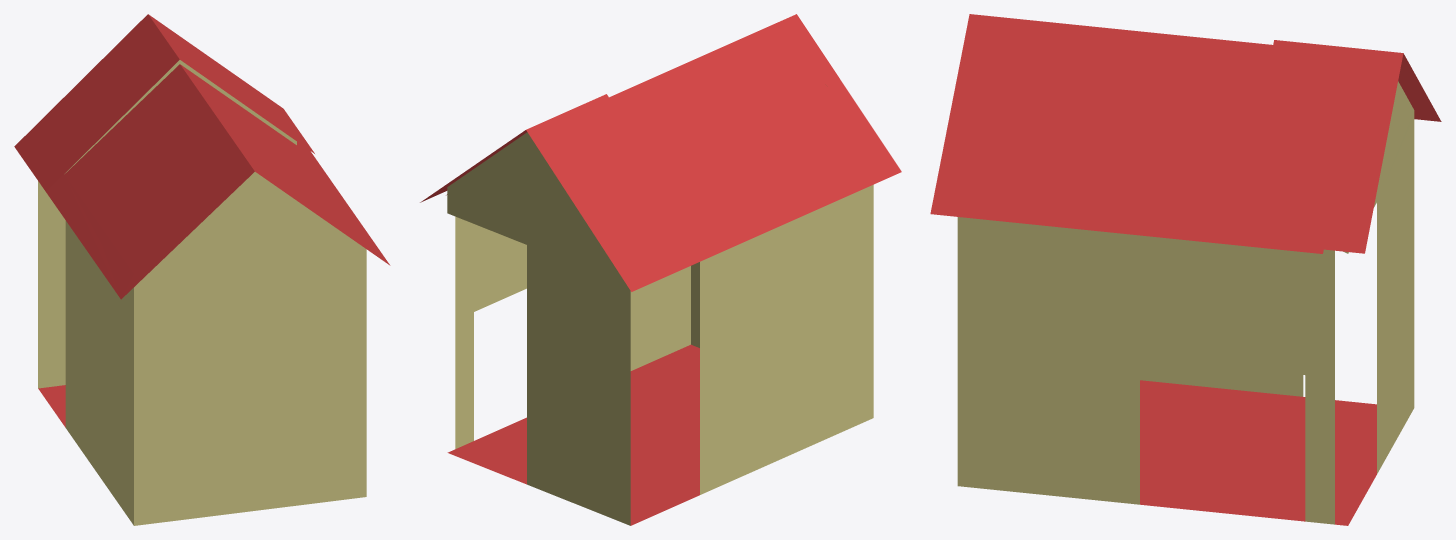
The picture shows the model from 3 angles, left to right: view 1: azimuth 30°, elevation 25°; view 2: azimuth 150°, elevation 25°; view 3: azimuth 270°, elevation 25°; orthographic projection. The views are drawn at different scales.
Bounding box in the file's own units: 14.11 × 16.88 × 15.15.
